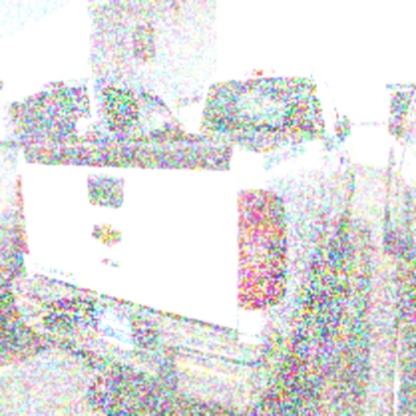Vehicle: (7, 60, 369, 413)
